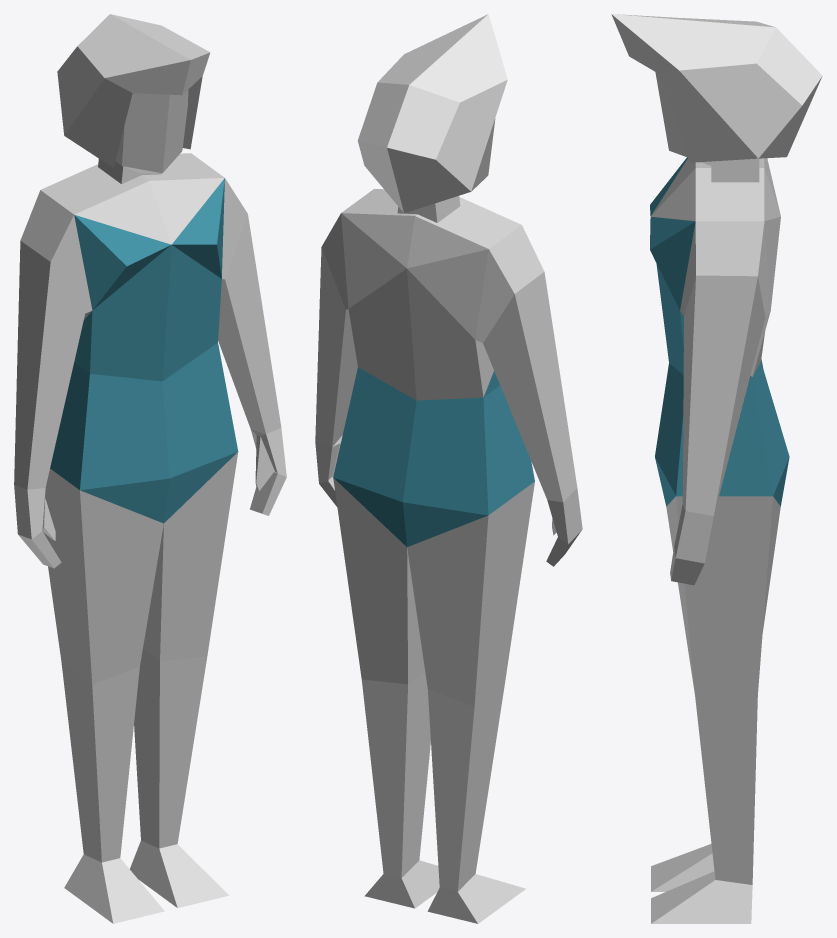
File: woman03.fbx
The picture shows the model from 3 angles, left to right: view 1: azimuth 30°, elevation 25°; view 2: azimuth 150°, elevation 25°; view 3: azimuth 270°, elevation 25°; orthographic projection. The views are drawn at different scales.
Parts seen in each view (by area): view 1: woman_03; view 2: woman_03; view 3: woman_03.
Boxes of the visible parts, bbox=[...] form: woman_03: bbox=[14, 14, 286, 923]; woman_03: bbox=[315, 14, 582, 923]; woman_03: bbox=[611, 14, 822, 923].
Bounding box in the file's own units: 0.5219 × 0.3672 × 1.69.
